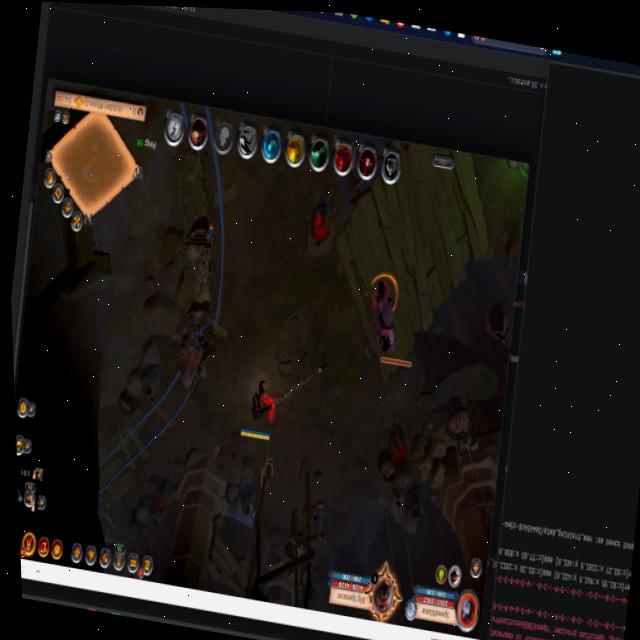ore: (345, 254, 427, 373), (88, 479, 117, 527)
red: (229, 373, 285, 449)
